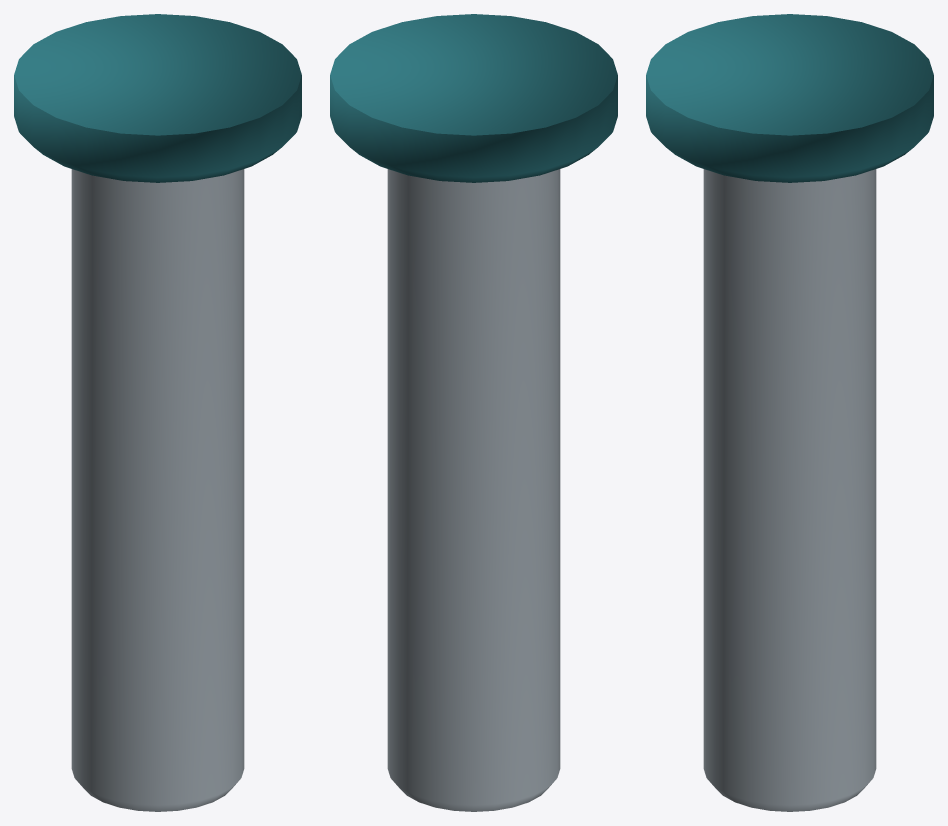
The model's file is VLAB_pins.fbx.
3 views of the same model, side by side, from view 1: azimuth 30°, elevation 25°; view 2: azimuth 150°, elevation 25°; view 3: azimuth 270°, elevation 25° (orthographic).
Visible parts, largest first — view 1: VLAB_pins_Pin_VIS, VLAB_pins_Cap_VIS; view 2: VLAB_pins_Pin_VIS, VLAB_pins_Cap_VIS; view 3: VLAB_pins_Pin_VIS, VLAB_pins_Cap_VIS.
Part boxes in pixels (bbox=[...]): VLAB_pins_Pin_VIS: bbox=[71, 169, 244, 811]; VLAB_pins_Cap_VIS: bbox=[14, 14, 301, 182]; VLAB_pins_Pin_VIS: bbox=[387, 169, 560, 811]; VLAB_pins_Cap_VIS: bbox=[330, 14, 617, 182]; VLAB_pins_Pin_VIS: bbox=[703, 169, 876, 811]; VLAB_pins_Cap_VIS: bbox=[646, 14, 933, 182].
Size of the model in its own units: 0.01 by 0.027 by 0.01.
